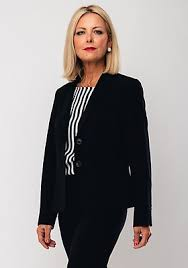F_W_suit jacket: (37, 69, 159, 232)
